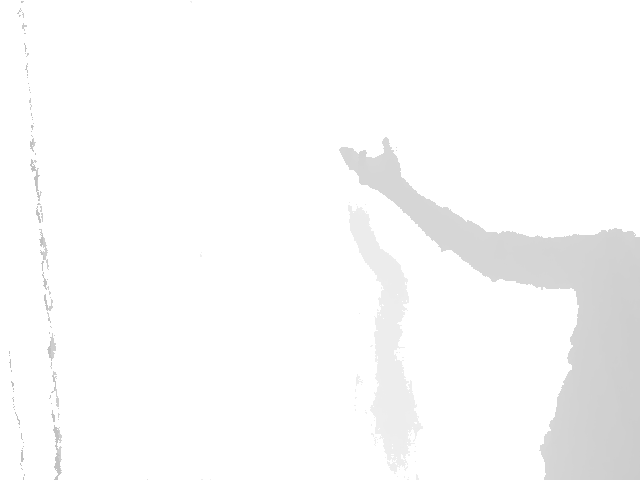hand: (338, 136, 401, 200)
person: (338, 136, 640, 480)
